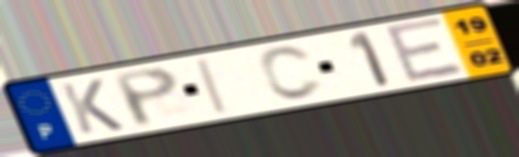1: (346, 29, 395, 88)
C: (255, 44, 328, 103)
E: (380, 15, 468, 87)
I: (194, 56, 234, 117)
K: (56, 76, 128, 136)
P: (108, 65, 183, 130)
